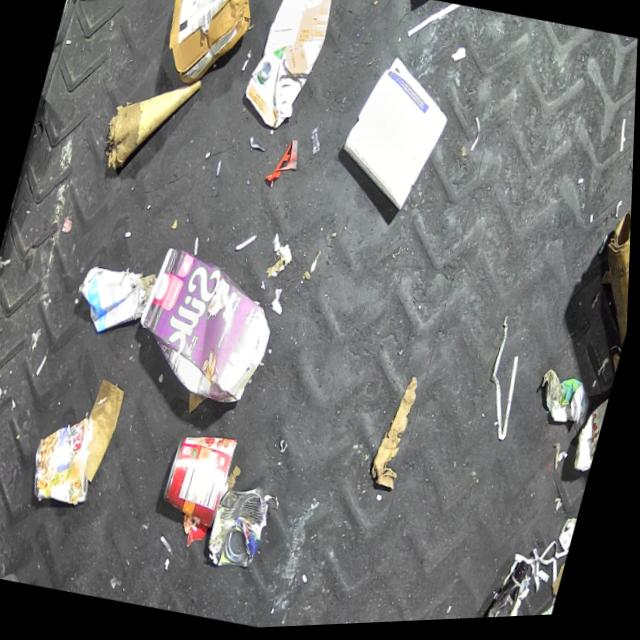can: (25, 406, 110, 511), (159, 425, 242, 530), (203, 478, 279, 577), (572, 391, 614, 483)
non_white_jug: (123, 240, 288, 418), (236, 0, 337, 135)
